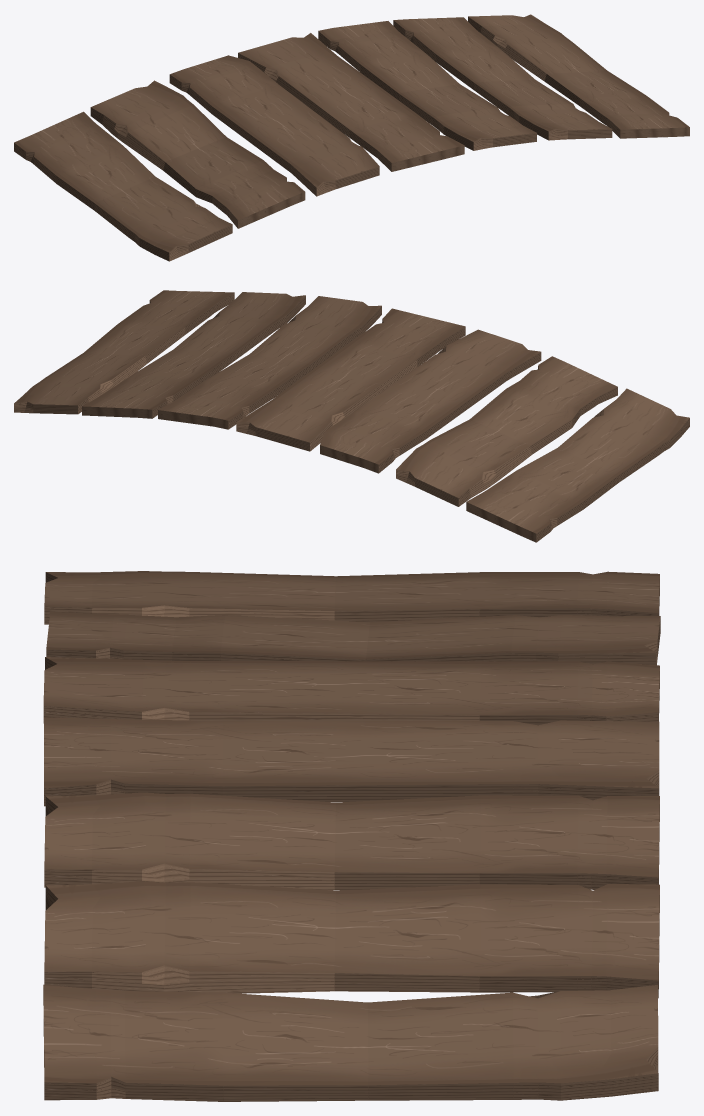
File: Bridgek.fbx
3 views of the same model, one above another, from view 1: azimuth 30°, elevation 25°; view 2: azimuth 150°, elevation 25°; view 3: azimuth 270°, elevation 25° (orthographic). The views are drawn at different scales.
Visible parts, largest first — view 1: Cube.003; view 2: Cube.003; view 3: Cube.003.
Boxes of the visible parts, x1=… form: Cube.003: x1=14, y1=14, x2=689, y2=261; Cube.003: x1=14, y1=290, x2=689, y2=542; Cube.003: x1=43, y1=571, x2=660, y2=1101.
Size of the model in its own units: 1444 by 125 by 733.
Materials: 7 (7 with a texture image).
